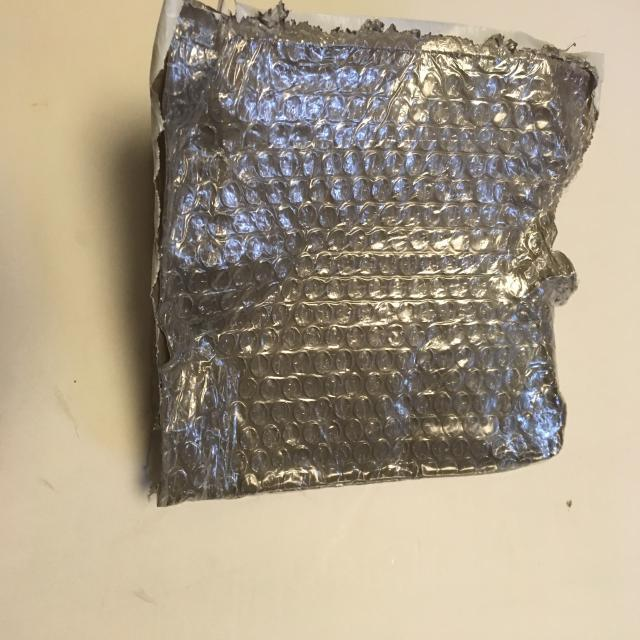plastic: (134, 1, 607, 506)
